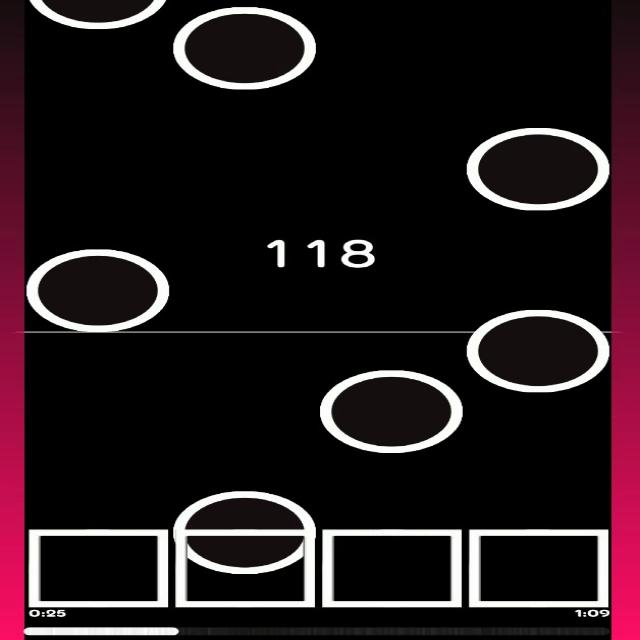note: (318, 366, 469, 458), (23, 246, 176, 333), (466, 121, 612, 212), (170, 6, 318, 92), (466, 310, 612, 394), (176, 486, 316, 572), (31, 0, 166, 31)
